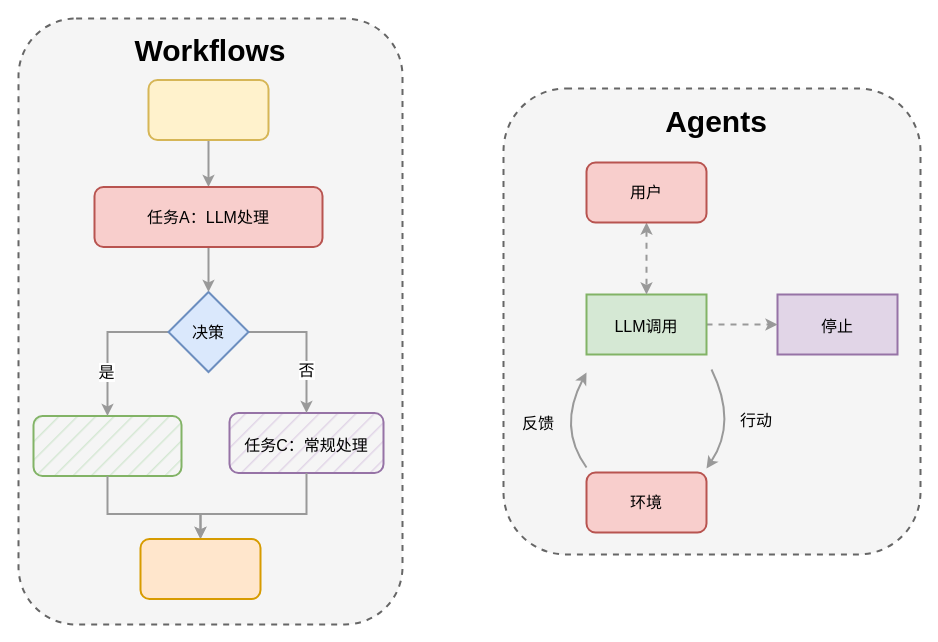
Image size: 938x642. Some labels were removed from this diagram. The box of each missing label's shape, as (x1, y1, x2, y2) in pixels:
任务B：LLM生成: (32, 414, 182, 476)
开始: (147, 78, 269, 140)
结束: (139, 538, 261, 600)
